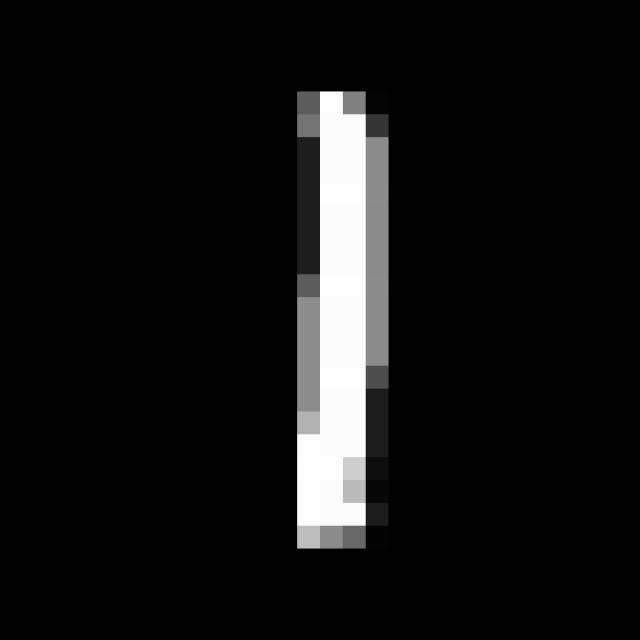one -1-: (267, 73, 408, 569)
